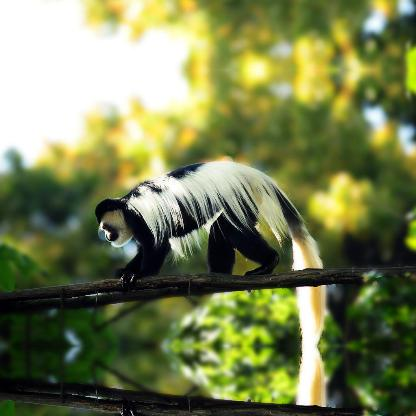Monkey: (111, 160, 327, 314), (111, 376, 328, 415)
